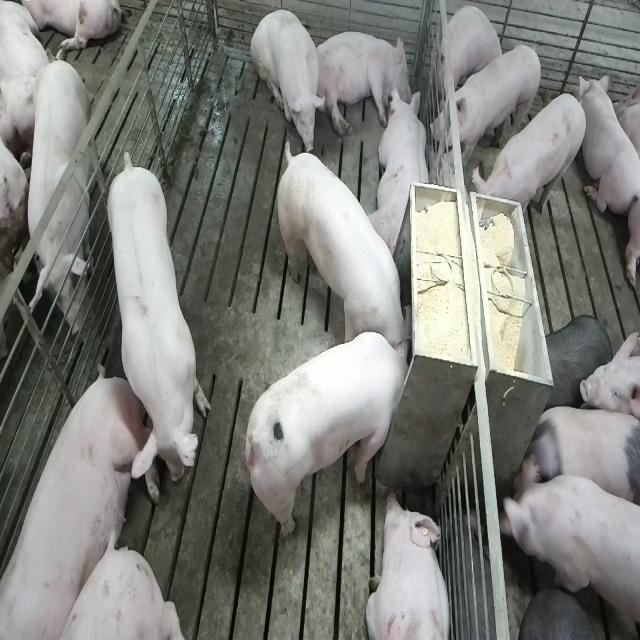Feeding: (249, 332, 419, 540), (275, 138, 410, 361)
Lateral_lying: (316, 30, 414, 136)
Sitting: (250, 8, 328, 156)
Standing: (103, 151, 208, 498), (11, 55, 104, 351), (498, 455, 638, 640), (473, 91, 588, 234), (432, 43, 542, 167), (524, 400, 637, 508), (541, 312, 611, 418), (519, 588, 611, 640)
Sternal_lying: (365, 491, 453, 640), (372, 86, 432, 260), (581, 72, 638, 222)
